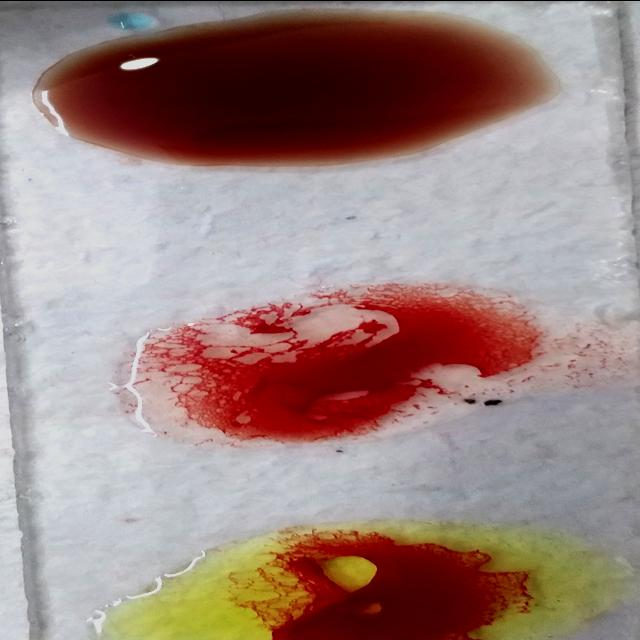B: (69, 524, 628, 638)
D: (132, 286, 602, 440)
